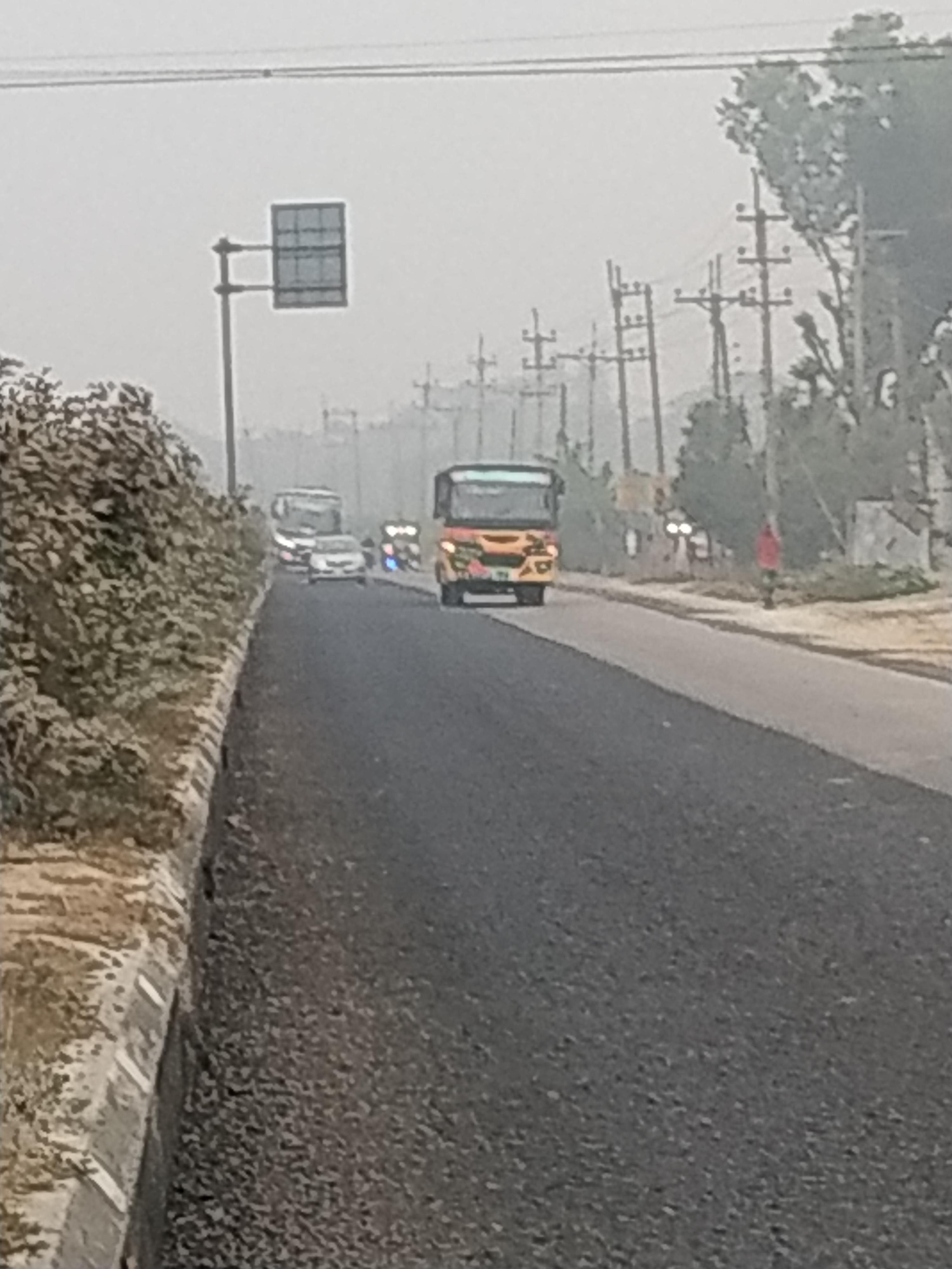Bus: (426, 440, 613, 637), (267, 477, 355, 567)
Car: (297, 531, 391, 589)
